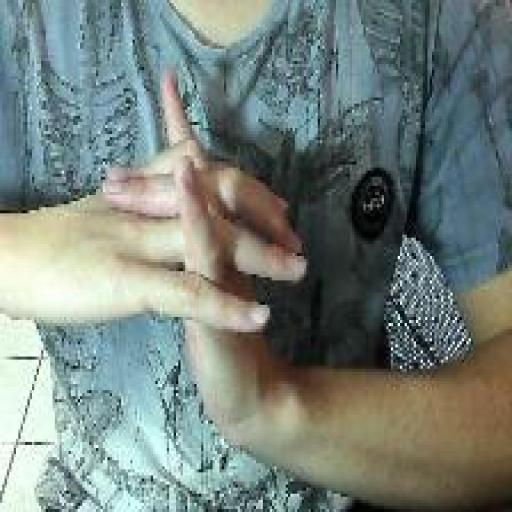Ushi -ox-: (99, 64, 312, 463)
